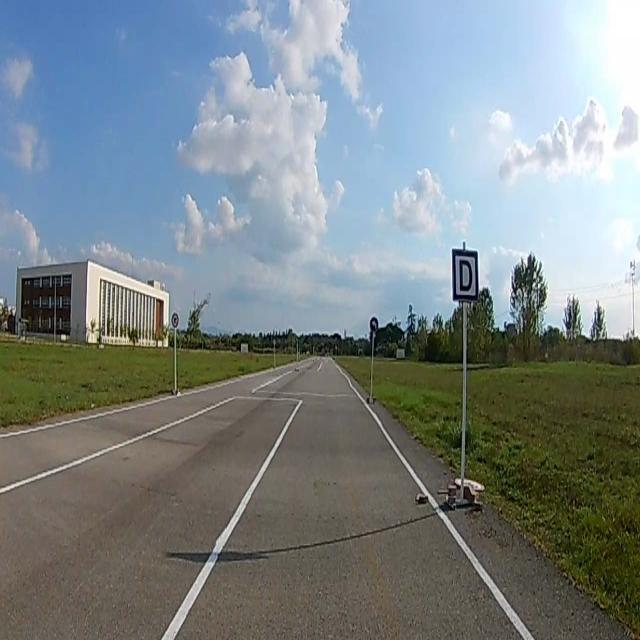durak: (451, 249, 479, 299)
